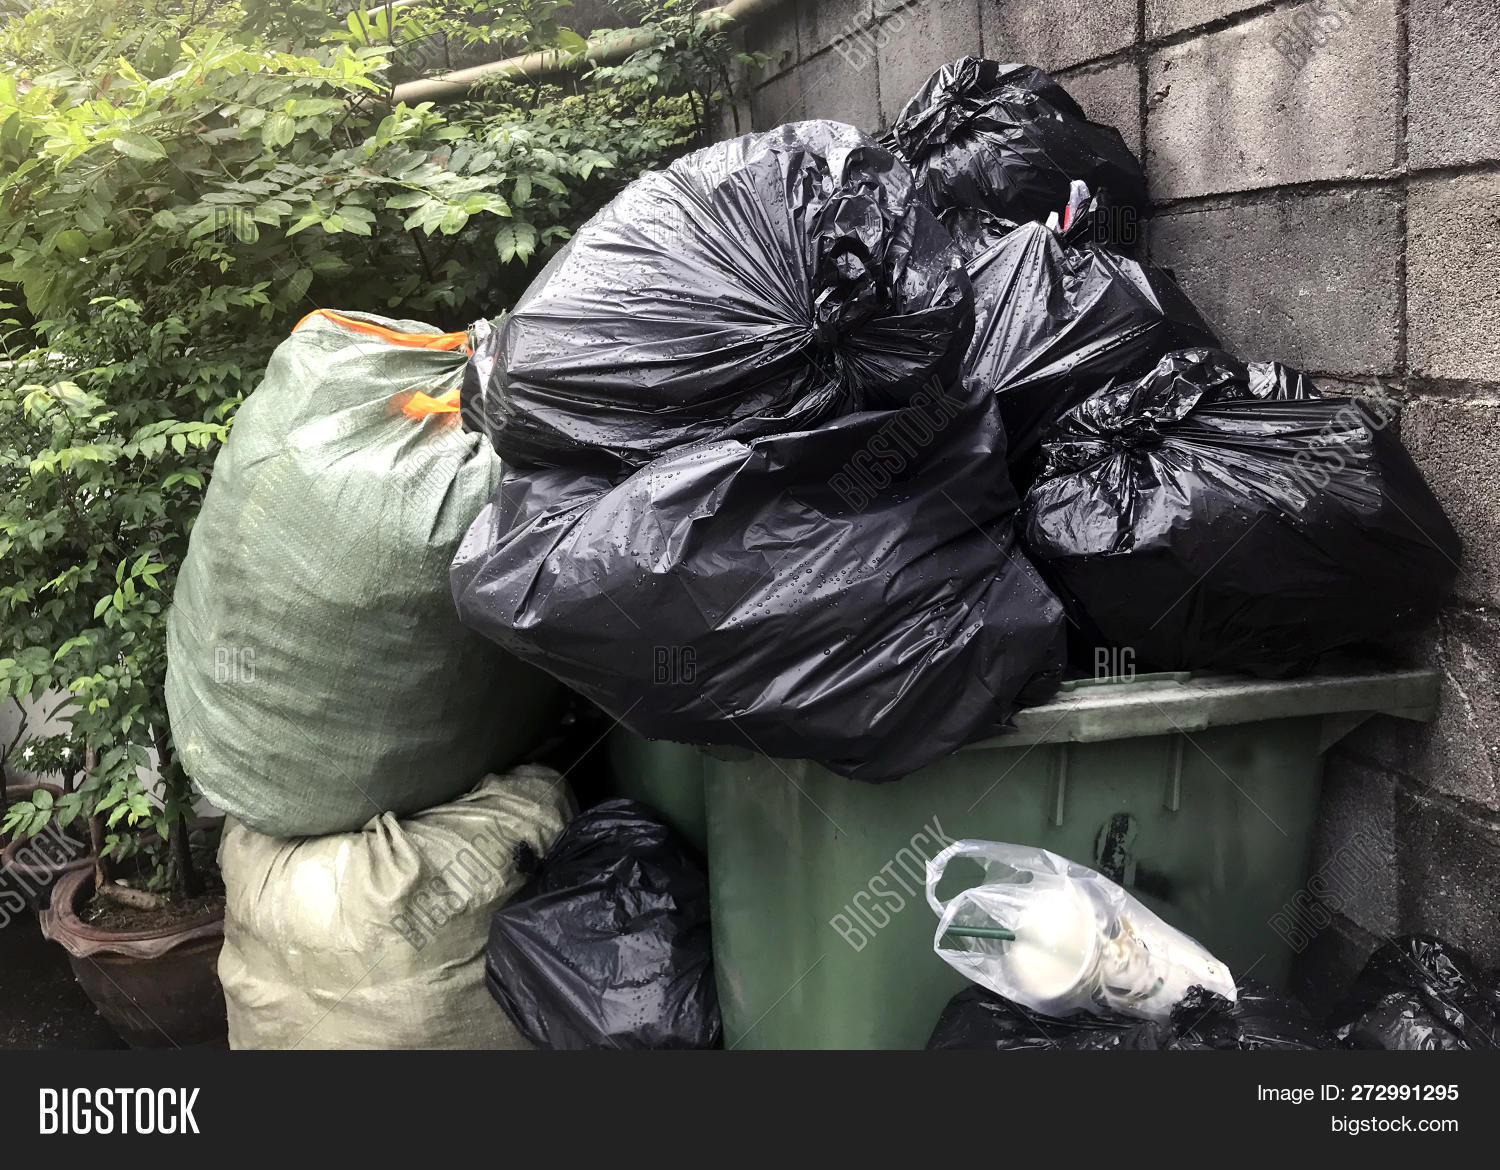plastic_bagwdw: (424, 62, 1386, 461), (880, 196, 1465, 767), (399, 387, 1162, 821), (796, 121, 1378, 538), (819, 794, 1338, 1138), (433, 723, 828, 1125), (903, 913, 1378, 1170), (1278, 850, 1496, 1112), (1386, 9, 1395, 65)
